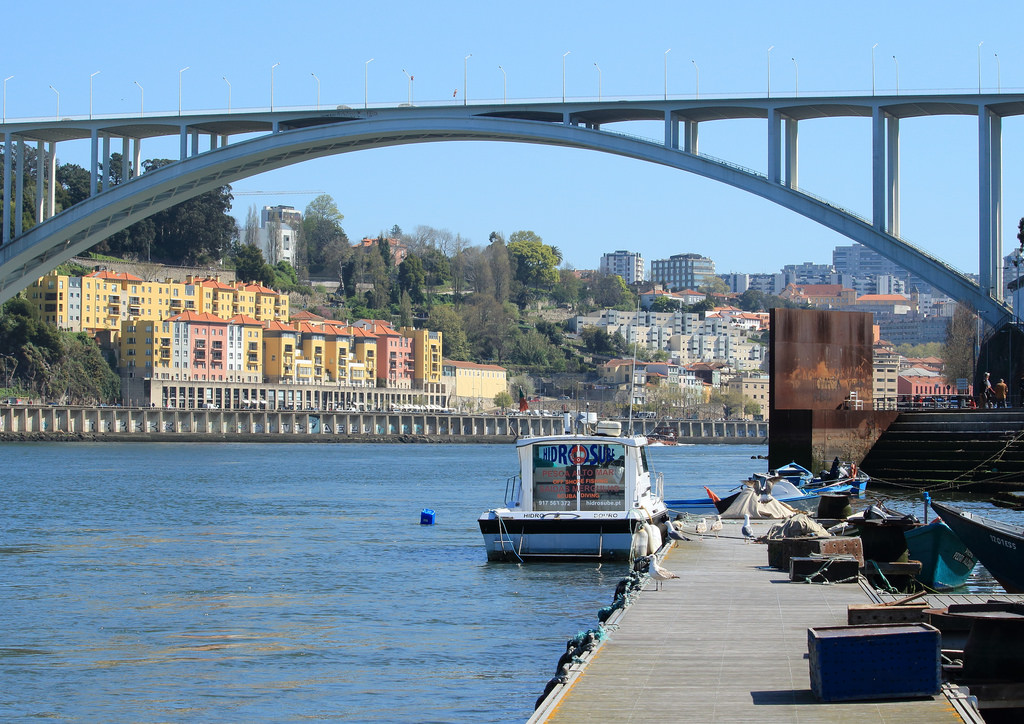arrabida: (0, 90, 1023, 348)
